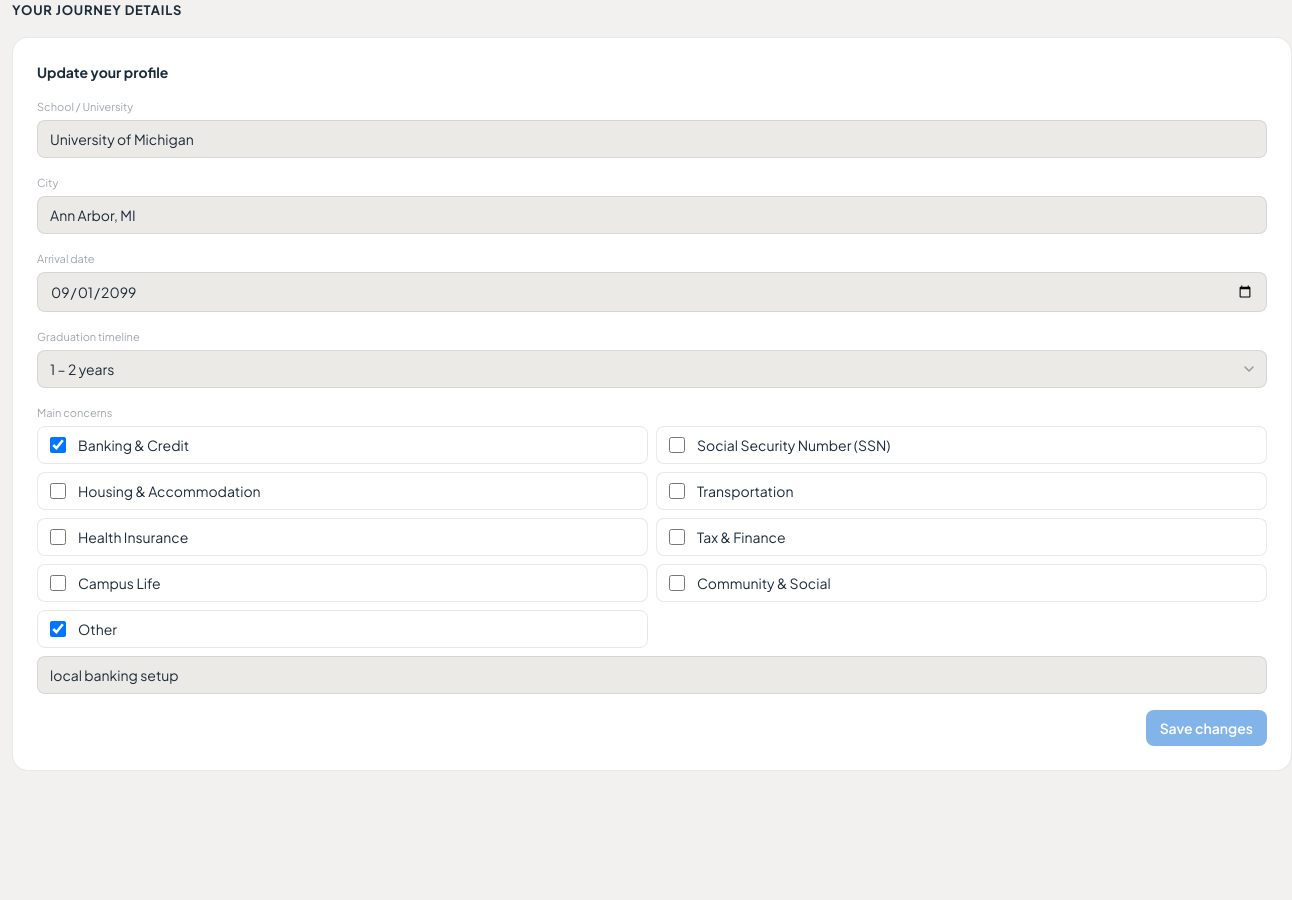
Test case: IntakeEditSection › shows an error when recalculatePlanDueDates fails
Type "2100-01-01" into the date field labelled "Arrival date" at (652, 292), box [37,272,1267,312]
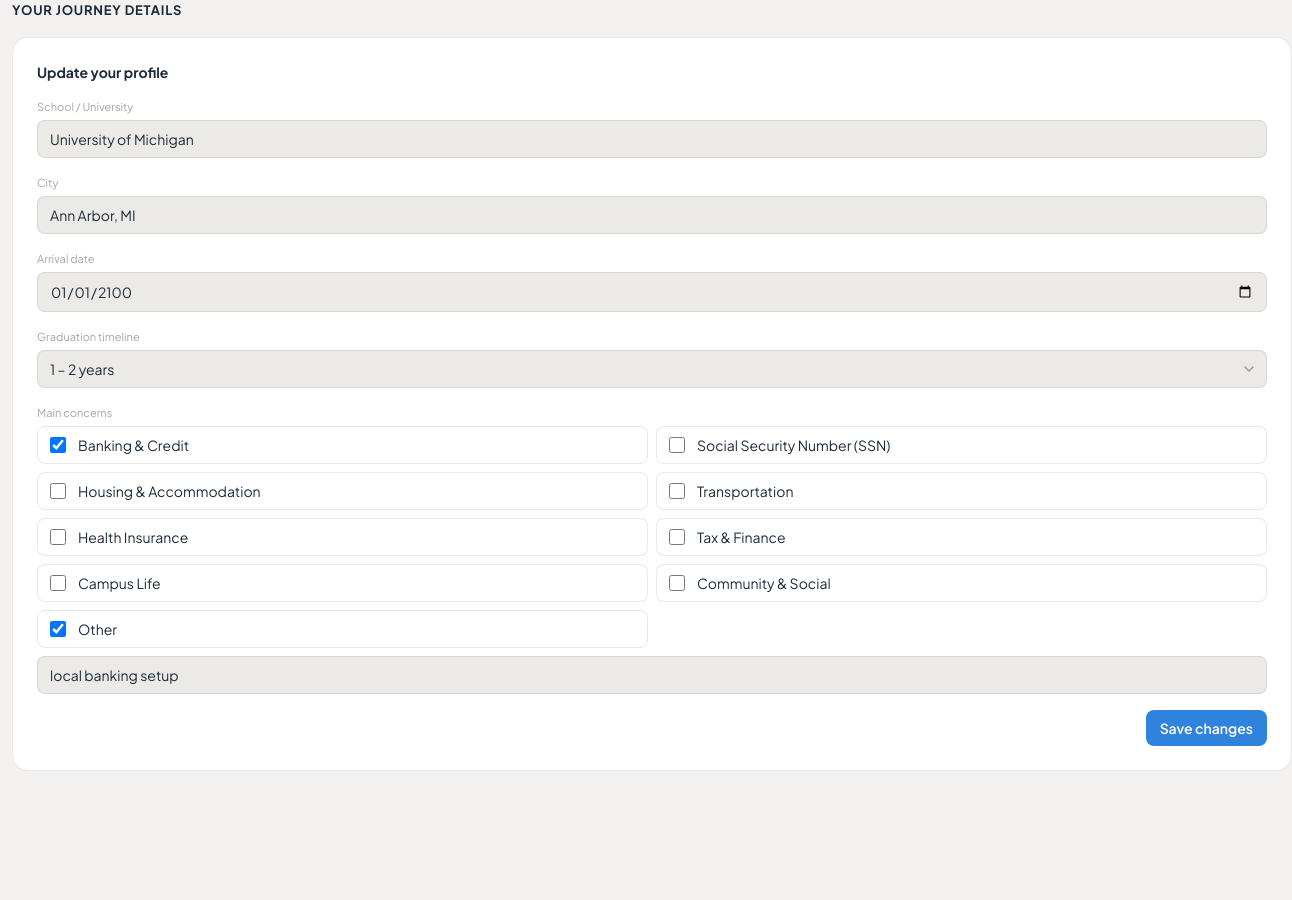
Click the button "Save changes" at (1206, 728), box [1146,710,1267,746]
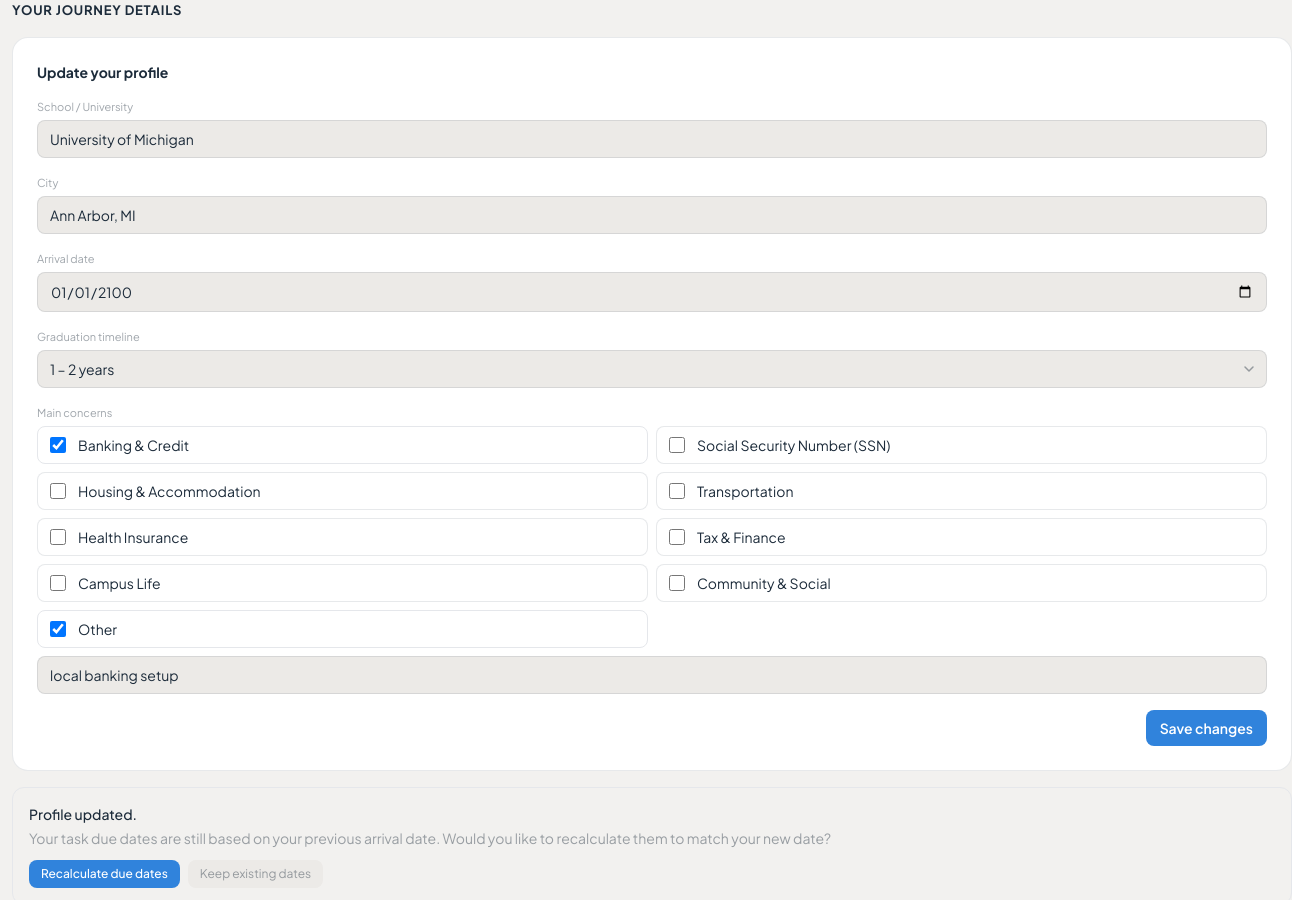
Result: the button "Recalculate due dates" is shown
Click the button "Recalculate due dates" at (104, 874), box [29,860,180,888]
(page scrolled)
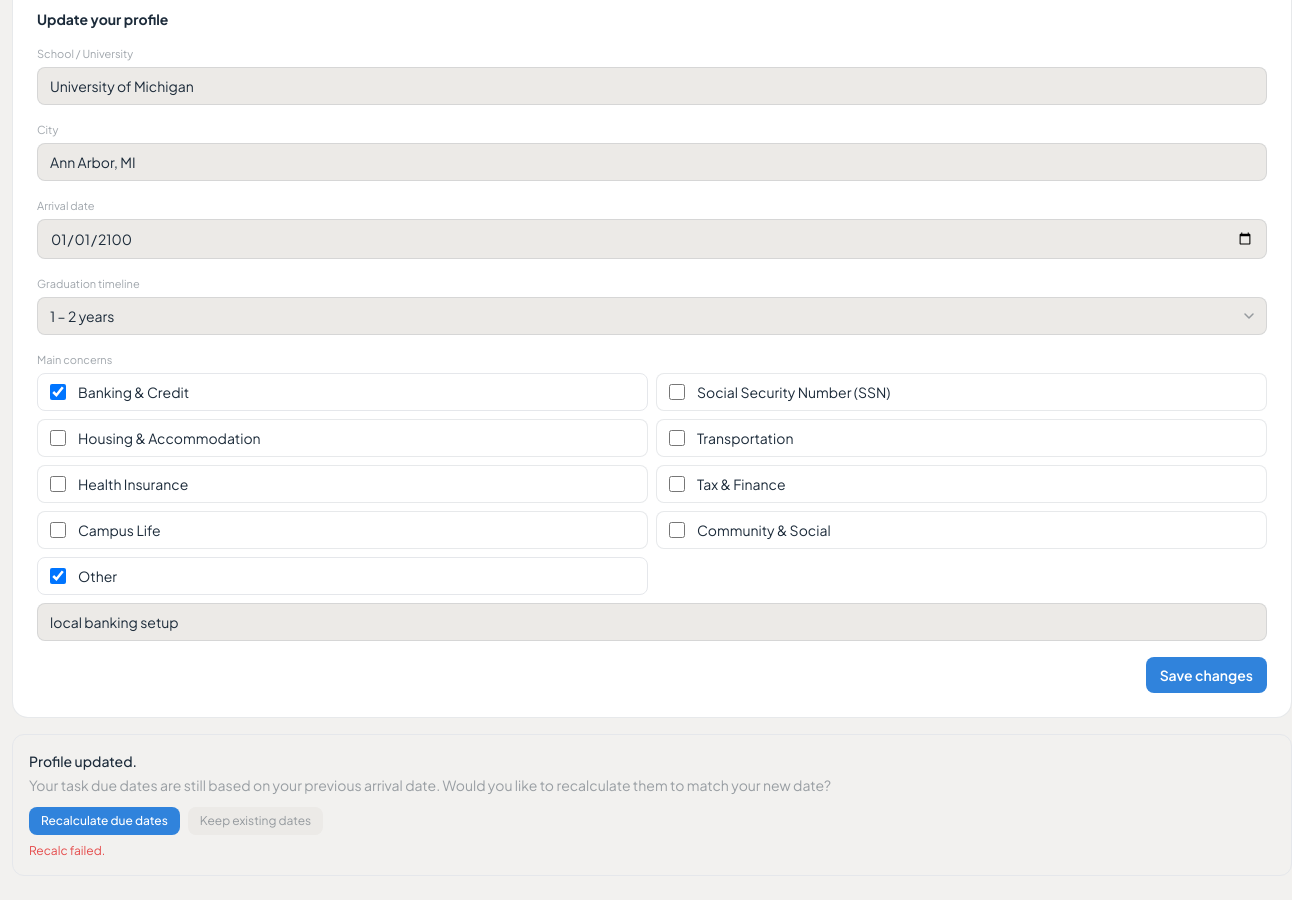
Result: the text "Recalc failed." is shown at [29,842,105,858]
